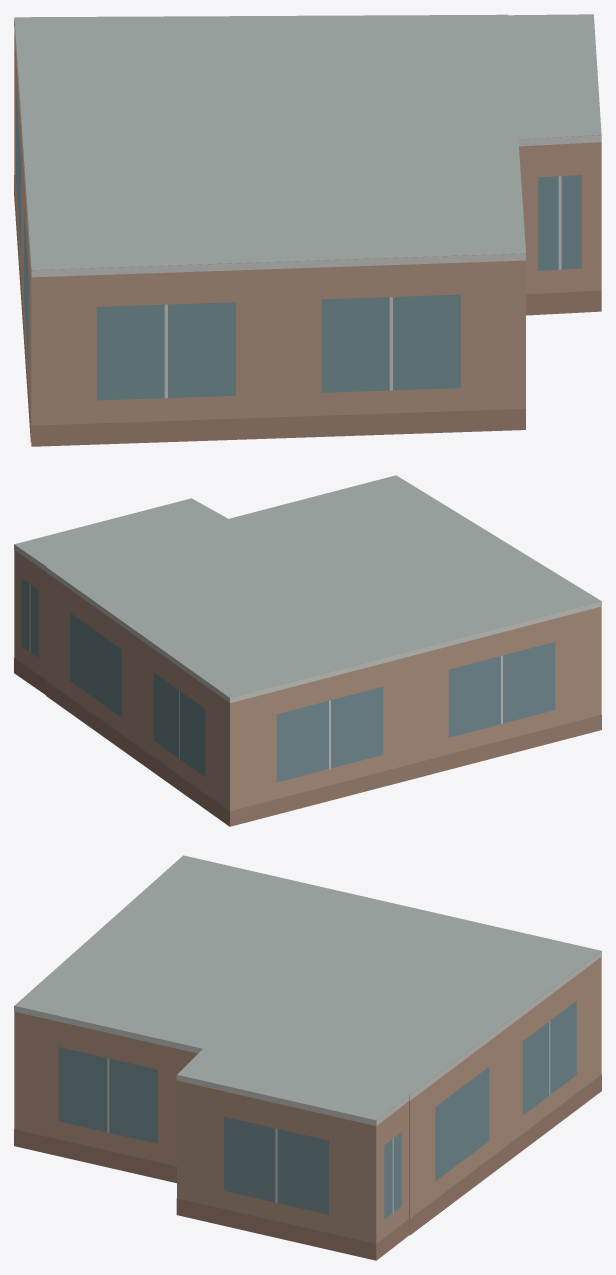
The model's file is survey-upis-32633686.glb.
3 renders of one model, top to bottom at view 1: azimuth 30°, elevation 25°; view 2: azimuth 150°, elevation 25°; view 3: azimuth 270°, elevation 25°, orthographic. The views are drawn at different scales.
Visible parts, largest first — view 1: survey-upis-32633686.tmp; view 2: survey-upis-32633686.tmp; view 3: survey-upis-32633686.tmp.
Boxes of the visible parts, bbox=[...] form: survey-upis-32633686.tmp: bbox=[14, 14, 601, 446]; survey-upis-32633686.tmp: bbox=[14, 475, 601, 826]; survey-upis-32633686.tmp: bbox=[14, 855, 601, 1260].
Size of the model in its own units: 12.38 by 3.05 by 11.59.
